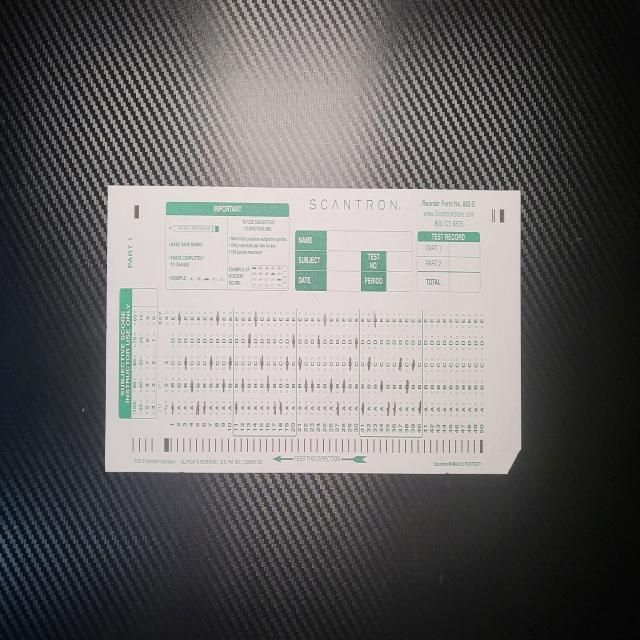scantron: (104, 184, 521, 475)
